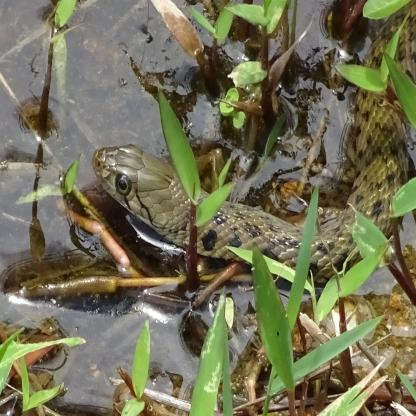Snake: (92, 127, 406, 275)
